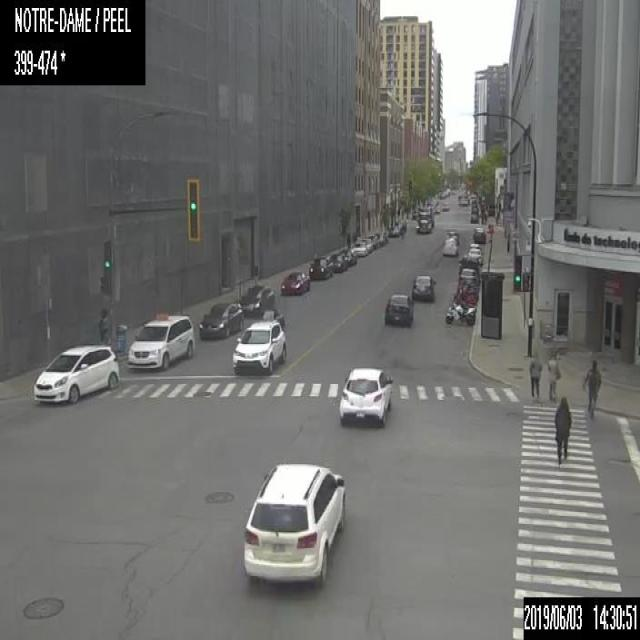pedestrian: (553, 395, 571, 465), (582, 359, 601, 416), (546, 349, 559, 402), (529, 351, 541, 397), (100, 307, 109, 345), (346, 232, 350, 248), (352, 232, 356, 245)
vehicle: (242, 460, 346, 584), (32, 341, 119, 403), (127, 311, 195, 369), (337, 364, 393, 425), (231, 317, 287, 373), (198, 300, 243, 339), (241, 283, 274, 318), (384, 294, 413, 324), (280, 270, 308, 296), (445, 302, 475, 325), (308, 254, 332, 280), (412, 274, 434, 300), (415, 205, 434, 233), (456, 280, 479, 299), (458, 268, 478, 286), (330, 253, 348, 271), (450, 294, 476, 306), (339, 248, 356, 266), (350, 240, 368, 256), (458, 256, 478, 270), (442, 238, 457, 255), (443, 230, 458, 245), (467, 248, 482, 262), (359, 237, 374, 250), (368, 235, 380, 248), (387, 225, 400, 237), (473, 229, 484, 243), (472, 226, 484, 238), (467, 242, 480, 250)
